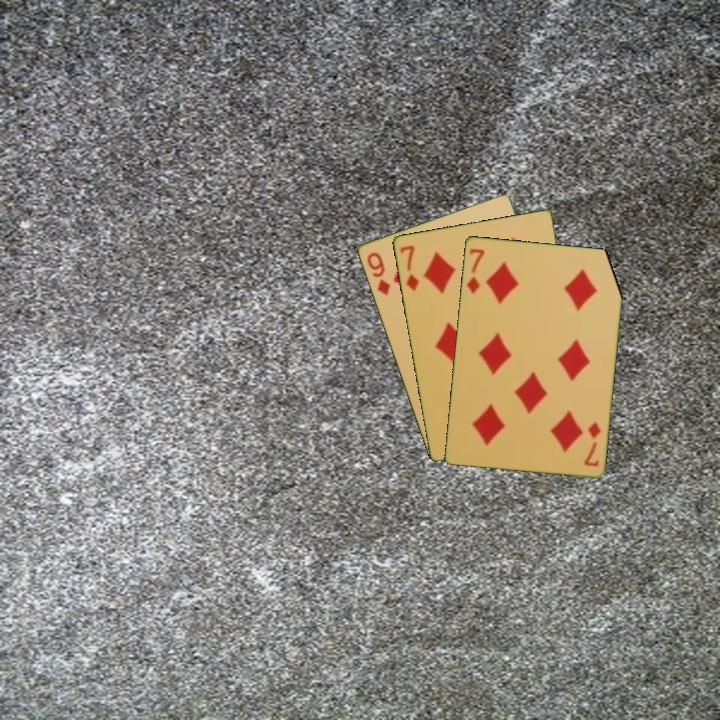7d: (396, 241, 422, 293), (463, 245, 487, 296), (580, 418, 603, 469)
9d: (363, 248, 393, 298)
